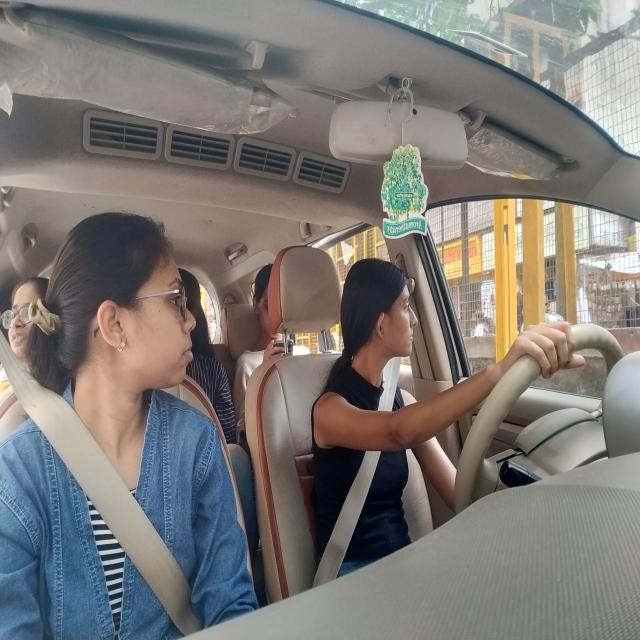LeftRight: (336, 256, 424, 368)
person: (52, 209, 206, 395), (0, 272, 51, 370), (250, 262, 284, 341)
